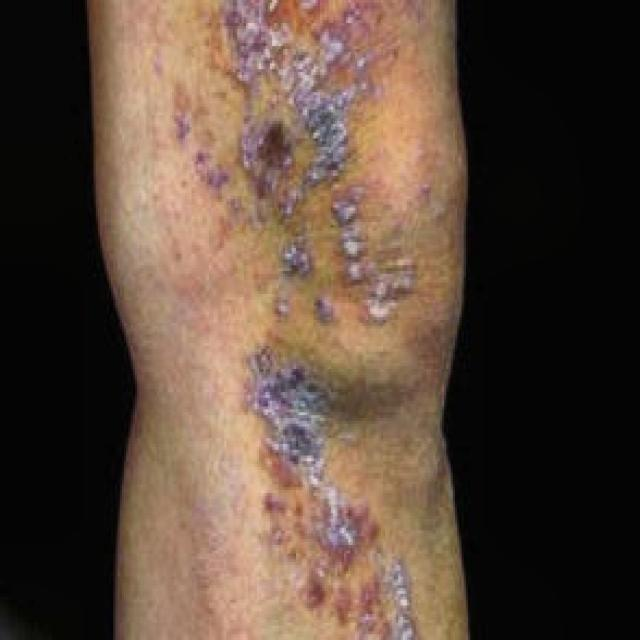Psoriasis-pictures-Lichen-Planus: (174, 7, 433, 640)
